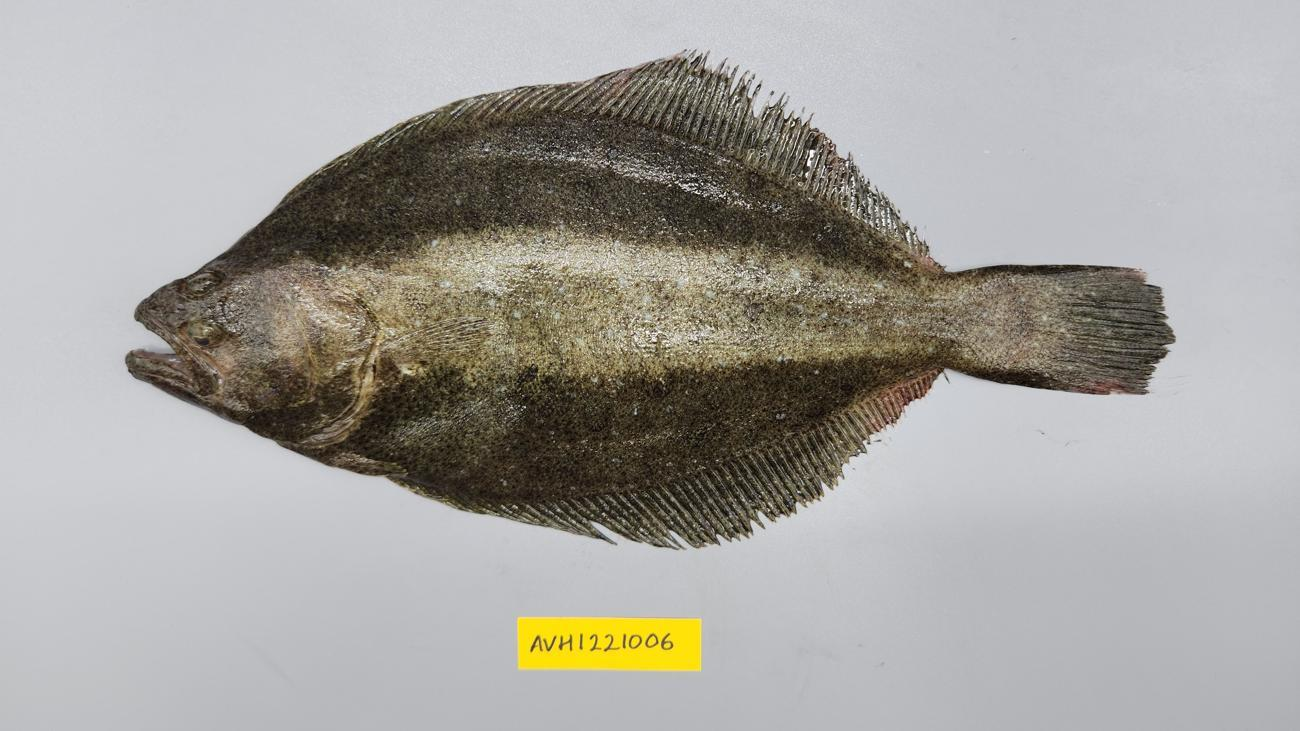VIFAH: (844, 368, 943, 452)
VIFCH: (1038, 367, 1152, 396), (1048, 266, 1149, 284)
VIOUY: (123, 59, 1175, 556)
